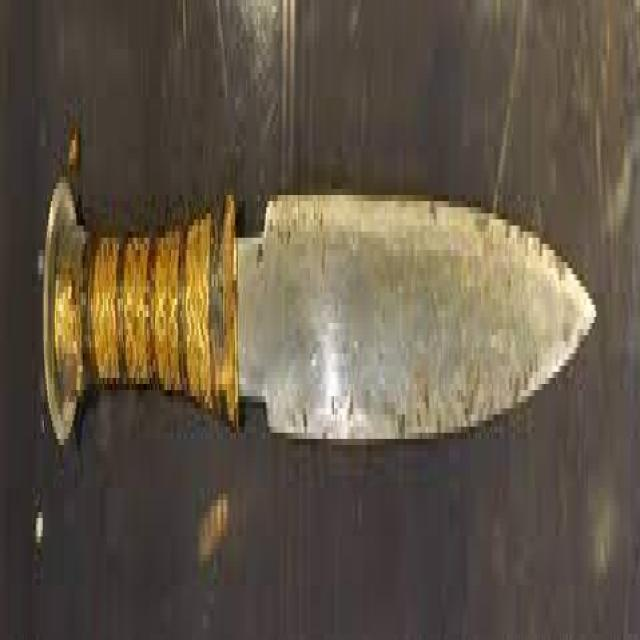Gun: (21, 88, 615, 508)
